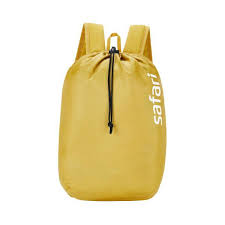backpack: (57, 22, 167, 201)
